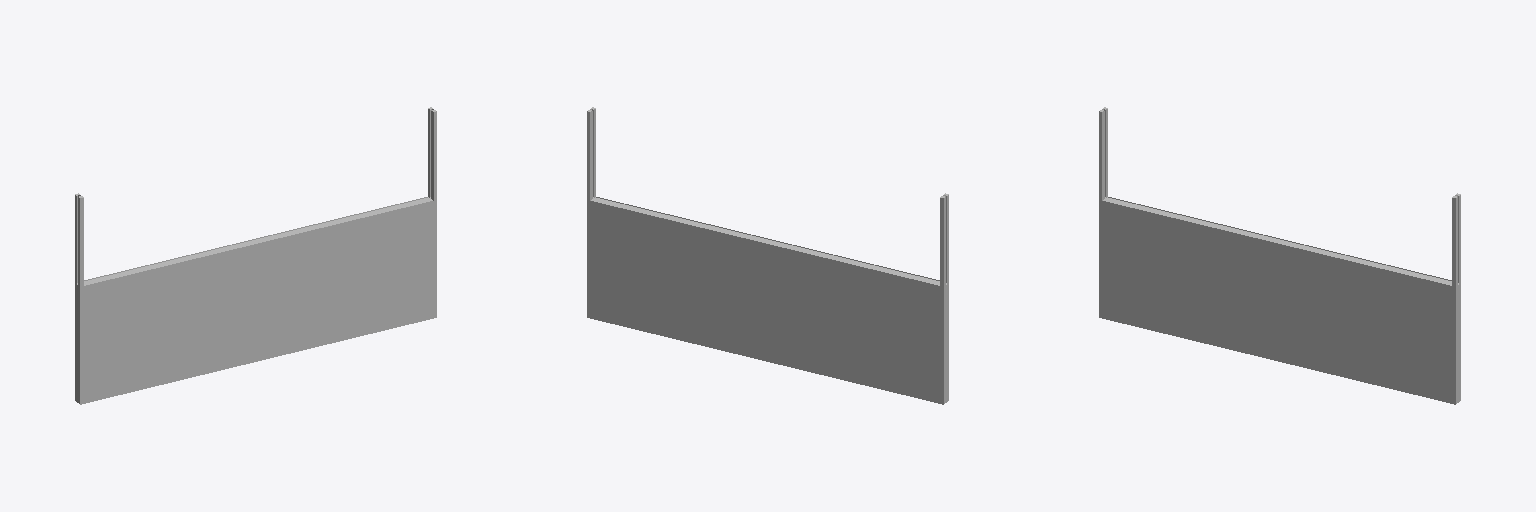
The model's file is hakurei_.obj.
3 views of the same model, side by side, from view 1: azimuth 30°, elevation 25°; view 2: azimuth 150°, elevation 25°; view 3: azimuth 330°, elevation 25° (orthographic).
Visible parts, largest first — view 1: obj1; view 2: obj1; view 3: obj1.
Boxes of the visible parts, x1=… form: obj1: x1=75, y1=107, x2=436, y2=404; obj1: x1=587, y1=107, x2=948, y2=404; obj1: x1=1099, y1=107, x2=1460, y2=404.
Bounding box in the file's own units: 19 × 10.5 × 0.515.